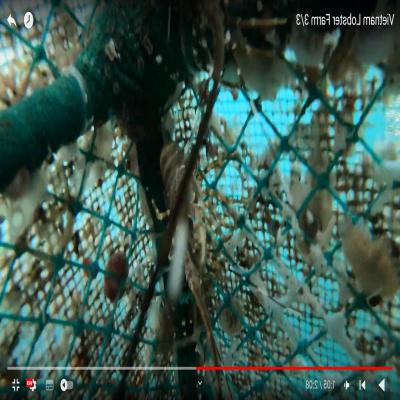lobster: (160, 142, 212, 284)
